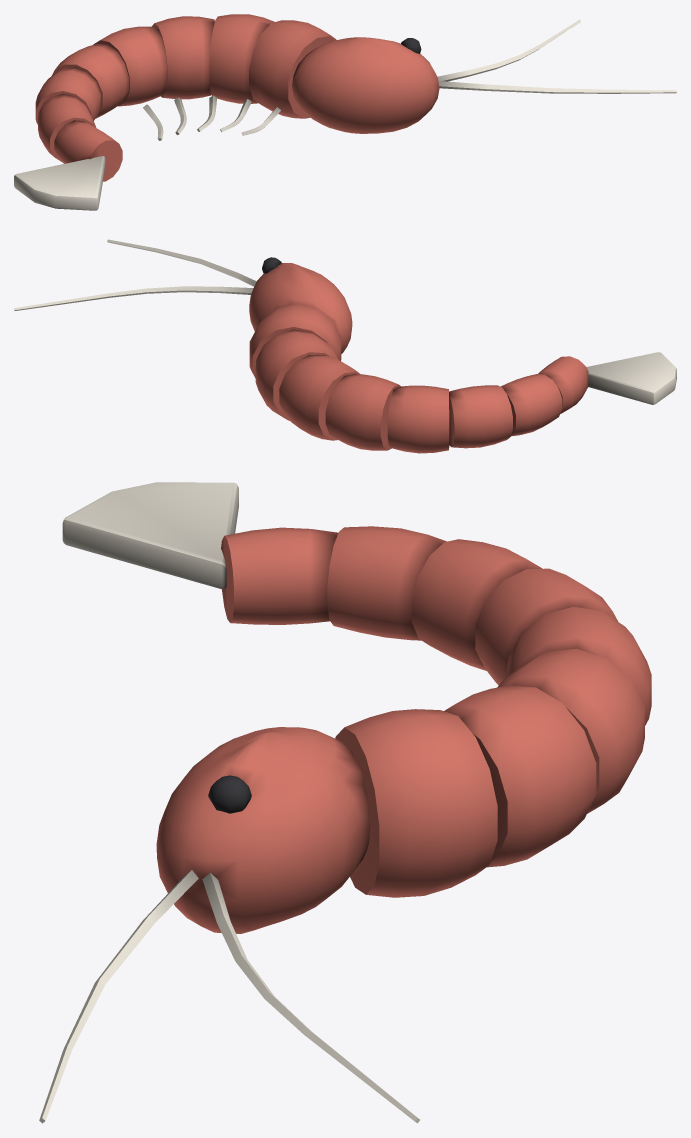
The model's file is food_shrimp.glb.
The picture shows the model from 3 angles, top to bottom: view 1: azimuth 30°, elevation 25°; view 2: azimuth 150°, elevation 25°; view 3: azimuth 270°, elevation 25°; orthographic projection. The views are drawn at different scales.
Parts seen in each view (by area): view 1: PART; view 2: PART; view 3: PART.
Boxes of the visible parts, x1=… form: PART: x1=14, y1=14, x2=676, y2=210; PART: x1=14, y1=239, x2=676, y2=453; PART: x1=39, y1=482, x2=651, y2=1123.
Size of the model in its own units: 0.2202 by 0.033 by 0.0979.
